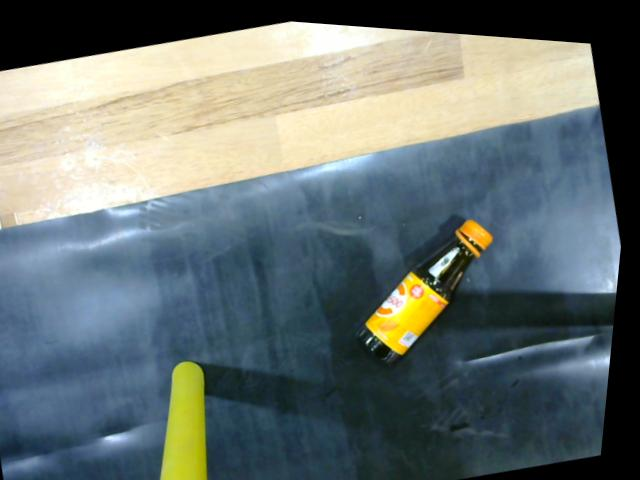glass: (356, 209, 508, 367)
